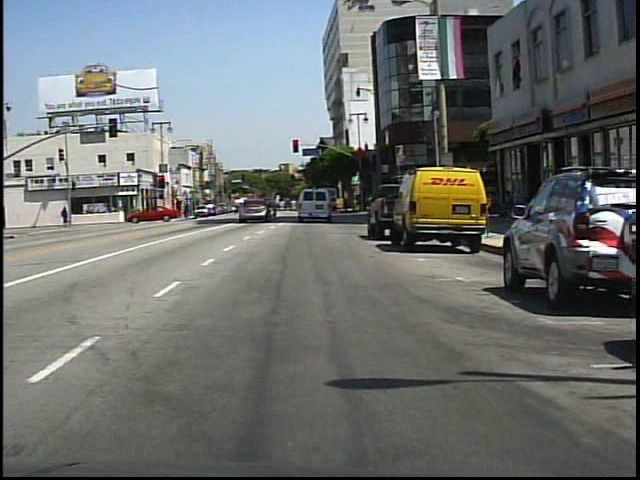person: (497, 184, 522, 226), (271, 192, 279, 223), (61, 205, 69, 225)
